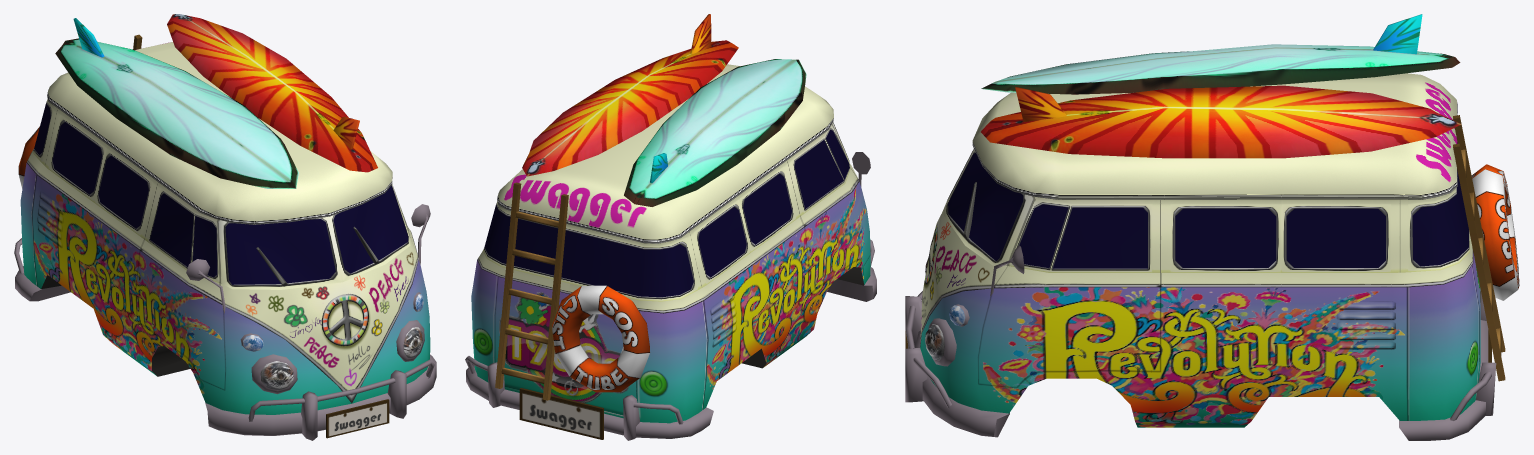
File: swagger.FBX
3 views of the same model, side by side, from view 1: azimuth 30°, elevation 25°; view 2: azimuth 150°, elevation 25°; view 3: azimuth 270°, elevation 25° (orthographic). The views are drawn at different scales.
Visible parts, largest first — view 1: swagger; view 2: swagger; view 3: swagger.
Boxes of the visible parts, x1=… form: swagger: x1=14, y1=14, x2=436, y2=440; swagger: x1=465, y1=14, x2=876, y2=440; swagger: x1=905, y1=14, x2=1519, y2=440.
Bounding box in the file's own units: 0.3066 × 0.3301 × 0.558.
